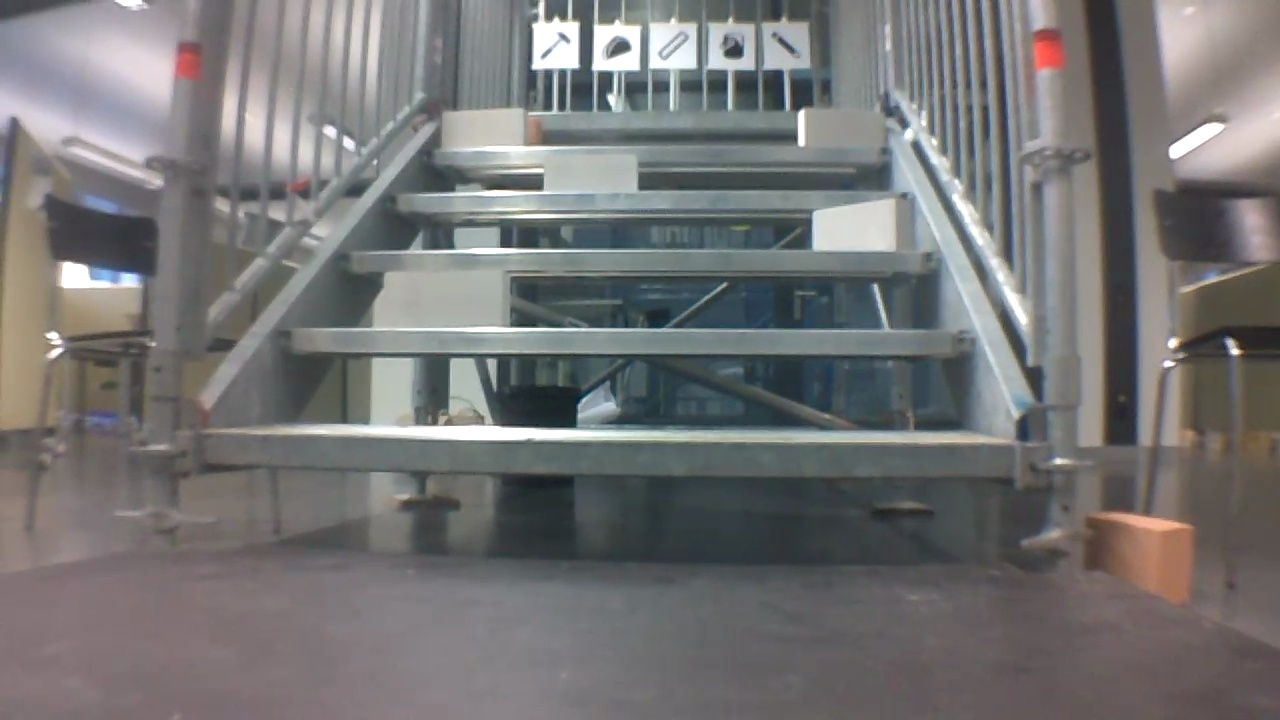brick: (385, 272, 509, 327), (815, 197, 913, 249), (543, 154, 637, 190), (443, 108, 525, 145), (799, 109, 882, 145), (529, 119, 542, 143)
bucket: (713, 28, 748, 64)
edge: (199, 432, 1009, 475), (277, 329, 972, 354), (339, 249, 941, 272), (383, 192, 916, 211), (420, 145, 890, 162), (432, 109, 887, 126)
hammer: (535, 30, 572, 63)
pencil: (766, 28, 806, 61)
ruler: (650, 24, 693, 63)
stairs: (145, 1, 1086, 561)
steps: (188, 105, 1019, 484)
taco: (599, 30, 636, 62)
